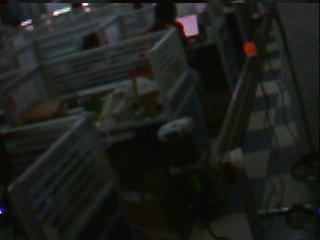oball: (244, 41, 255, 53)
